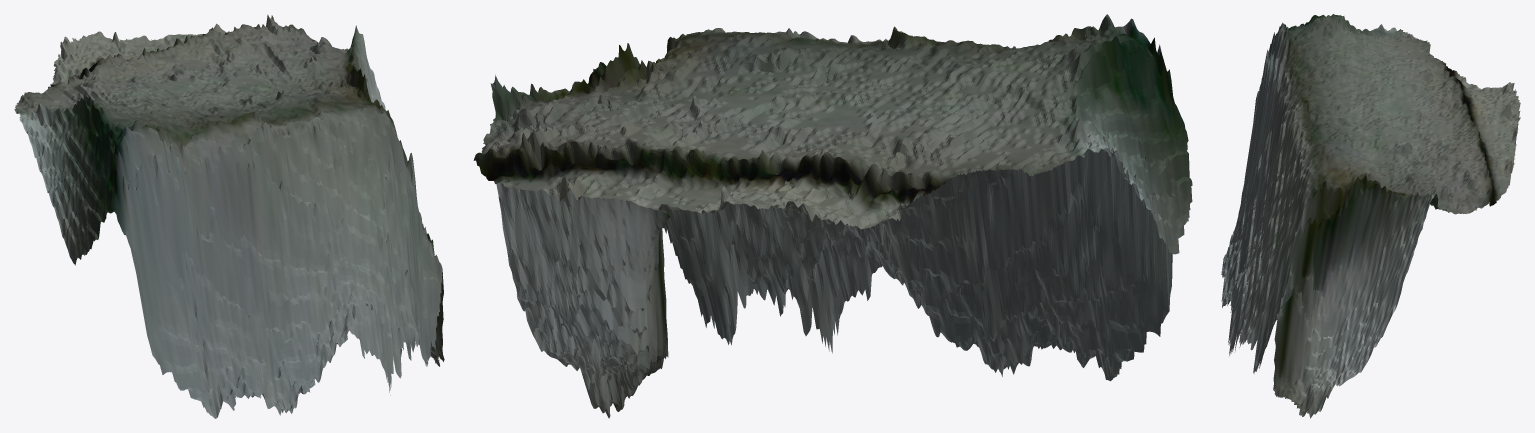
The model's file is bag_mesh.glb.
3 views of the same model, side by side, from view 1: azimuth 30°, elevation 25°; view 2: azimuth 150°, elevation 25°; view 3: azimuth 270°, elevation 25° (orthographic). The views are drawn at different scales.
Parts seen in each view (by area): view 1: world; view 2: world; view 3: world.
Boxes of the visible parts, x1,y1,x2,y2 form: world: [14, 14, 444, 418]; world: [473, 14, 1192, 418]; world: [1221, 14, 1520, 418].
Bounding box in the file's own units: 1.25 × 1.04 × 1.03.
